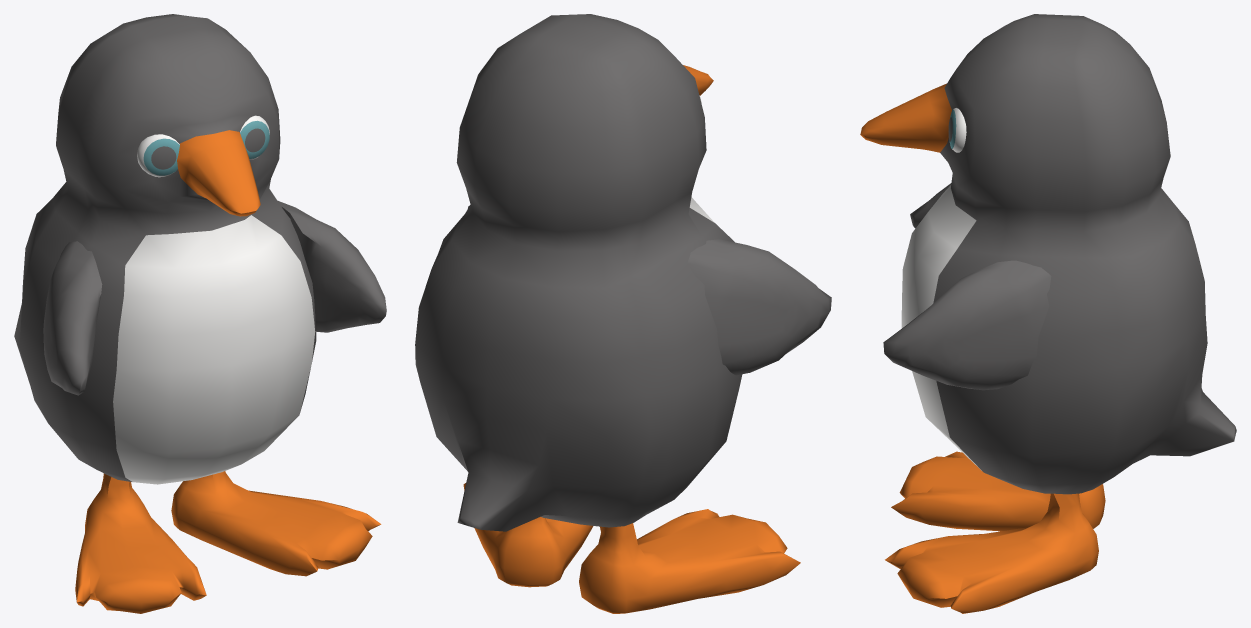
File: Penguin_3_231109.glb
3 views of the same model, side by side, from view 1: azimuth 30°, elevation 25°; view 2: azimuth 150°, elevation 25°; view 3: azimuth 270°, elevation 25° (orthographic). The views are drawn at different scales.
Visible parts, largest first — view 1: Penguin_3; view 2: Penguin_3; view 3: Penguin_3.
Part boxes in pixels (x1,y1,x2,y2): Penguin_3: [14, 14, 386, 613]; Penguin_3: [415, 14, 831, 613]; Penguin_3: [860, 14, 1236, 613].
Bounding box in the file's own units: 0.7975 × 1.2 × 0.7976.
Materials: 1 (1 with a texture image).
